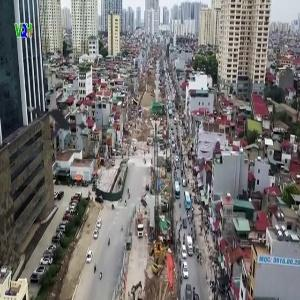drone: (3, 64, 119, 180)
